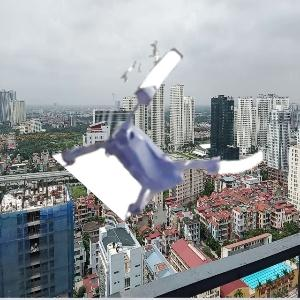drone: (86, 63, 258, 235)
